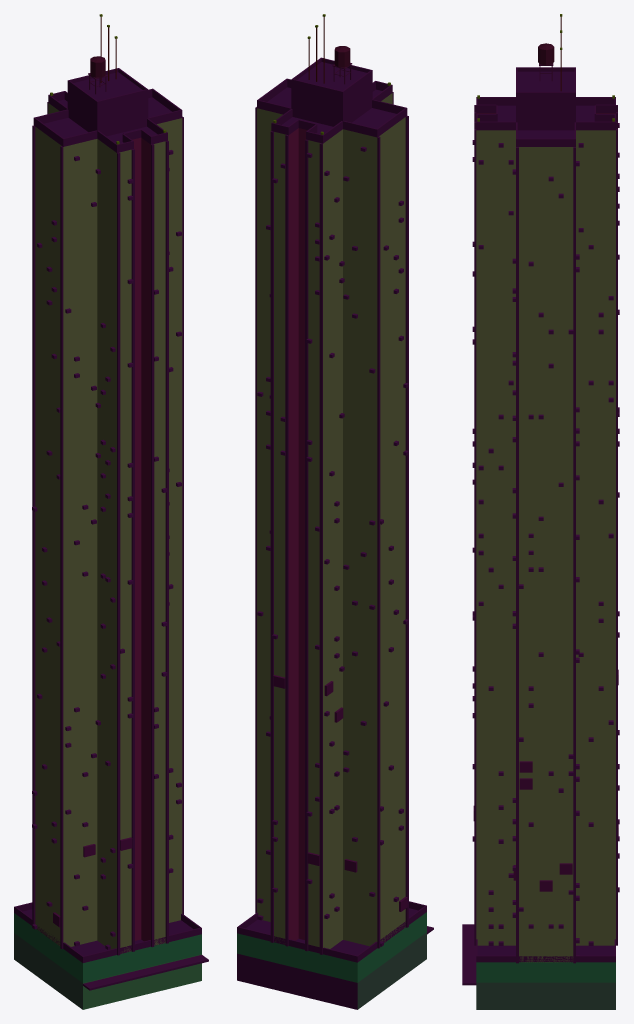
The model's file is restower_c.glb.
The picture shows the model from 3 angles, left to right: view 1: azimuth 30°, elevation 25°; view 2: azimuth 150°, elevation 25°; view 3: azimuth 270°, elevation 25°; orthographic projection.
Visible parts, largest first — view 1: restower_c; view 2: restower_c; view 3: restower_c.
Boxes of the visible parts, x1,y1,x2,y2 form: restower_c: (14, 14, 208, 1009); restower_c: (237, 14, 433, 1009); restower_c: (462, 14, 619, 1009).
Size of the model in its own units: 23.5 by 171 by 25.14.
